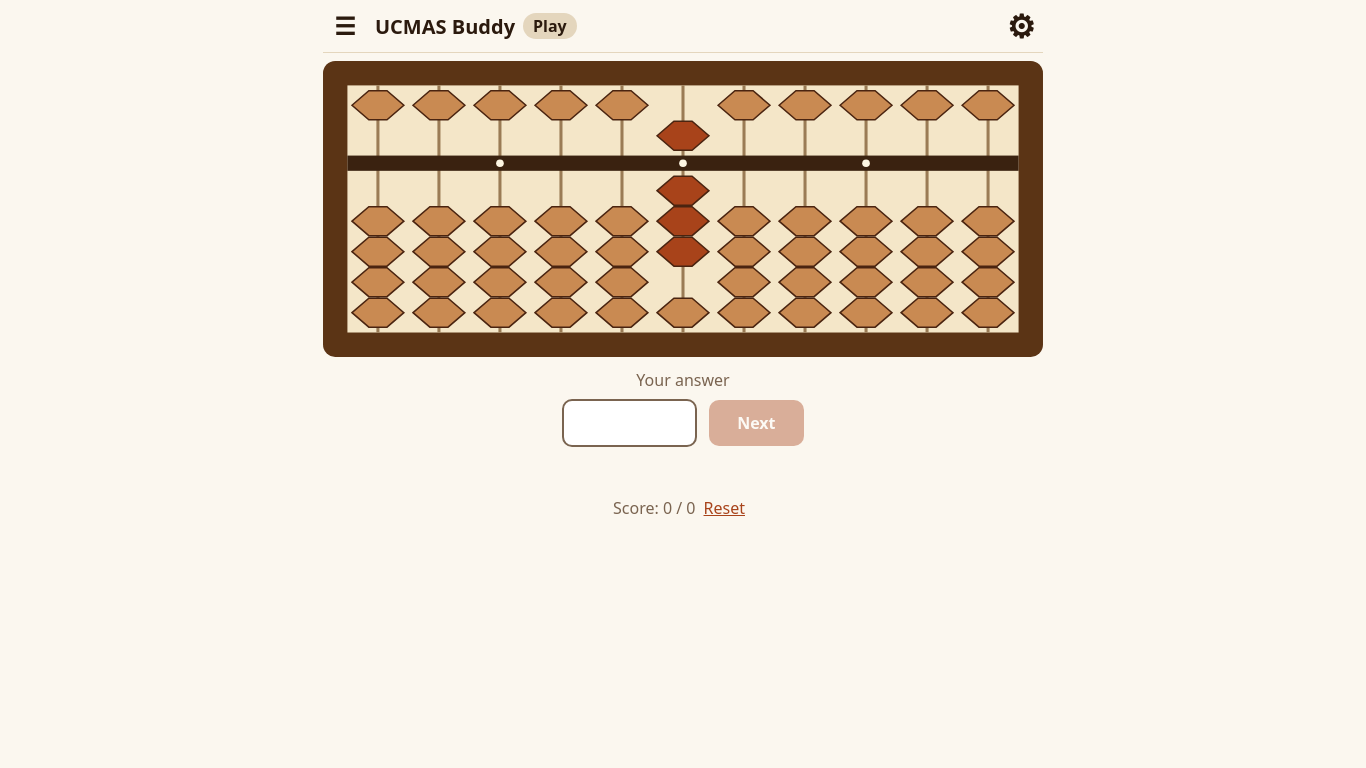
Scenario: <App> › closes settings with a tap outside
Click the button named "open settings". click: (1021, 26)
box: [999,4,1043,48]
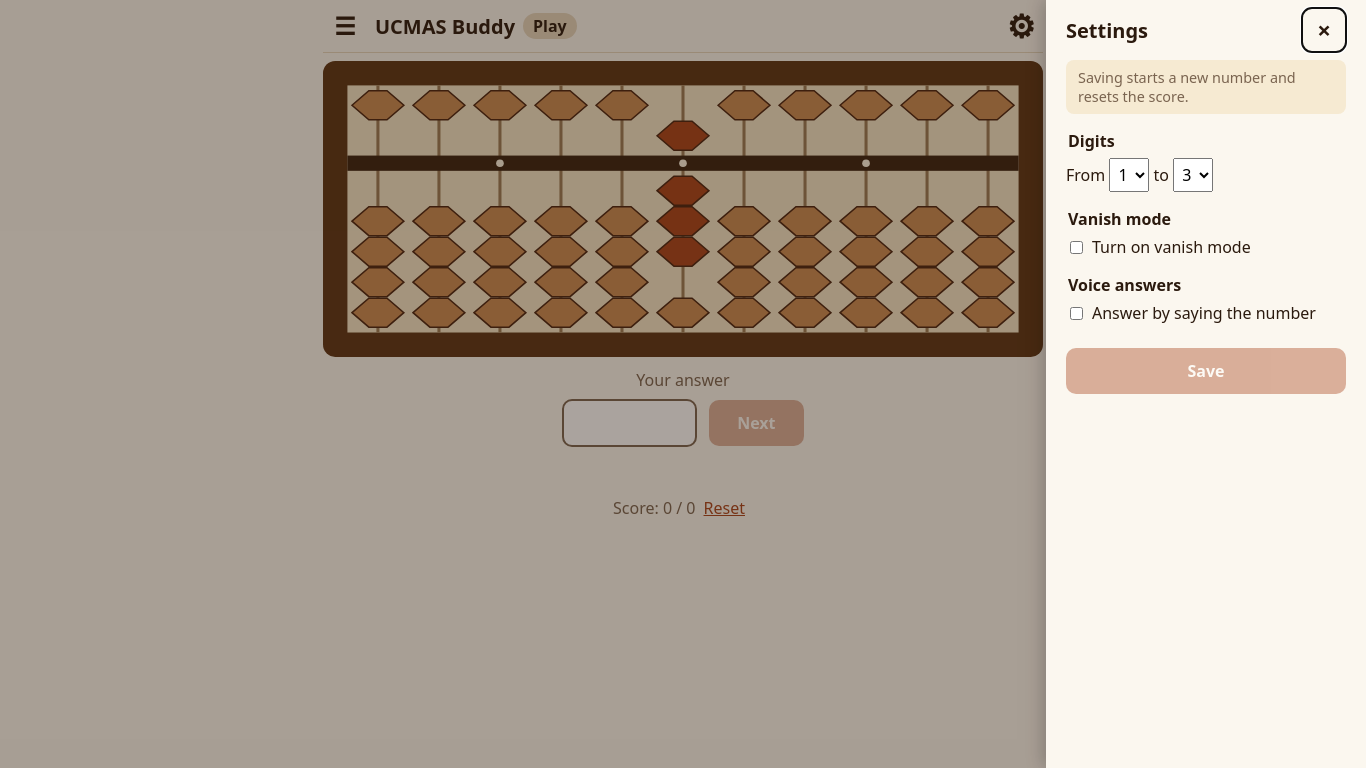
Click the element with test id "drawer-backdrop". click: (683, 384)
box: [0,0,1365,767]
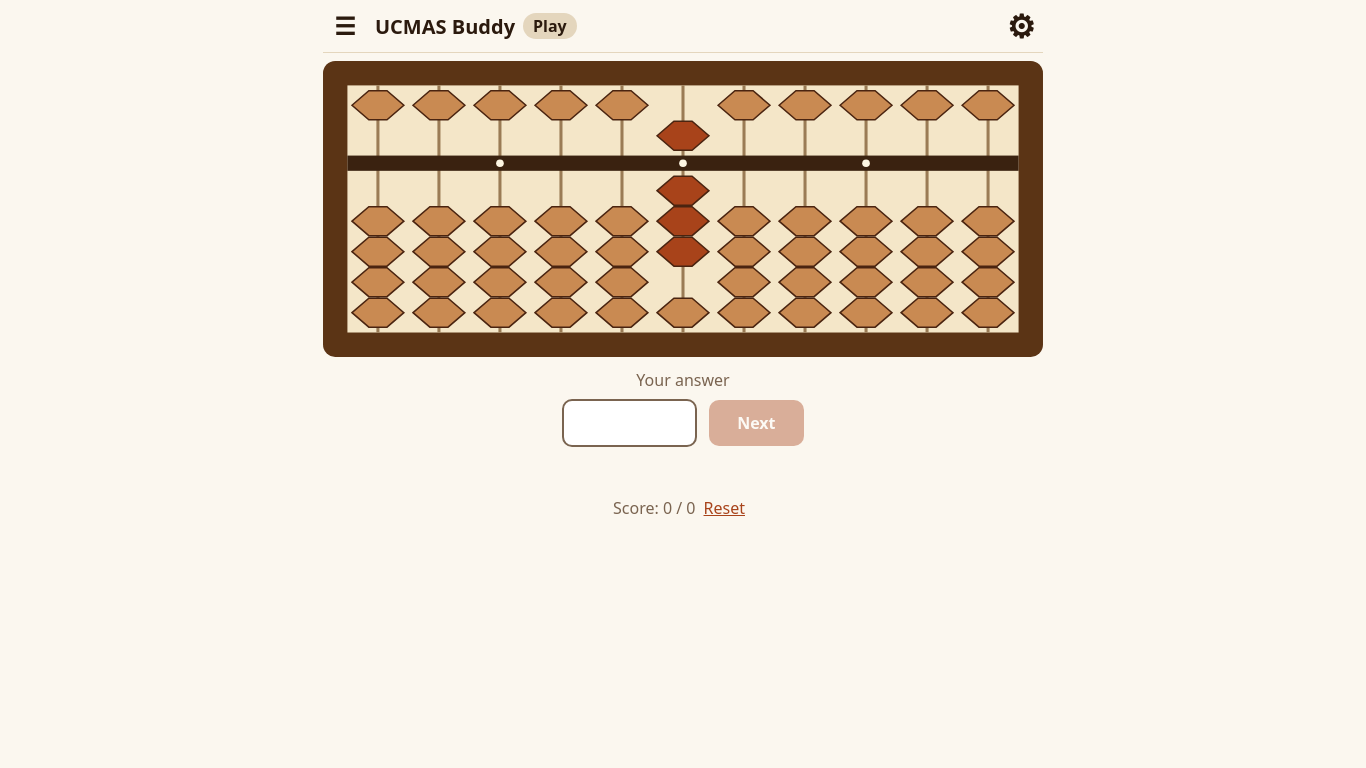
Expected: the dialog is gone
